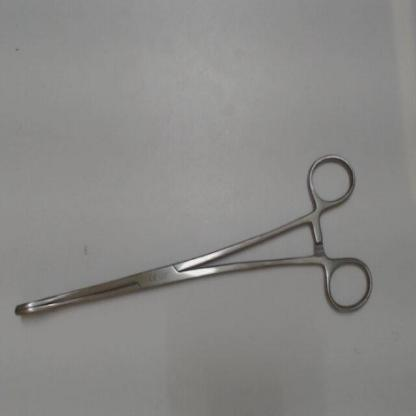Sponge Forceps: (6, 146, 380, 328)
